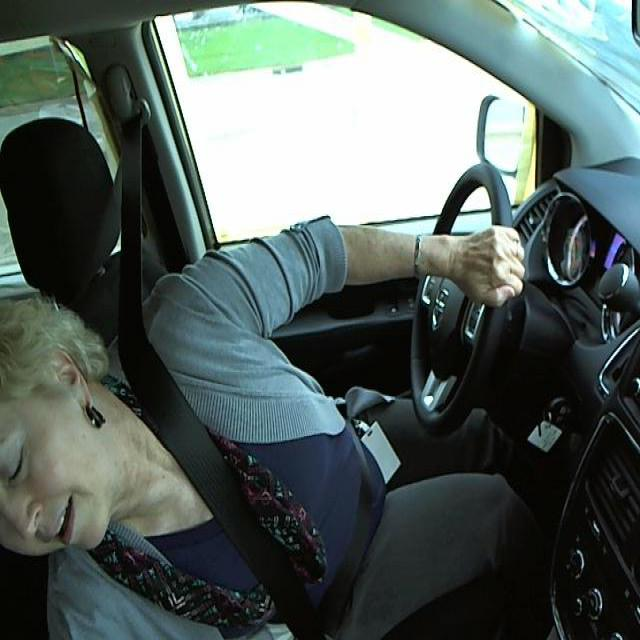seatbelt: (108, 338, 383, 630)
